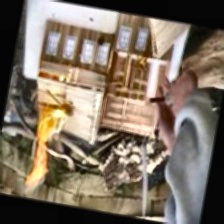fire: (23, 106, 68, 187)
